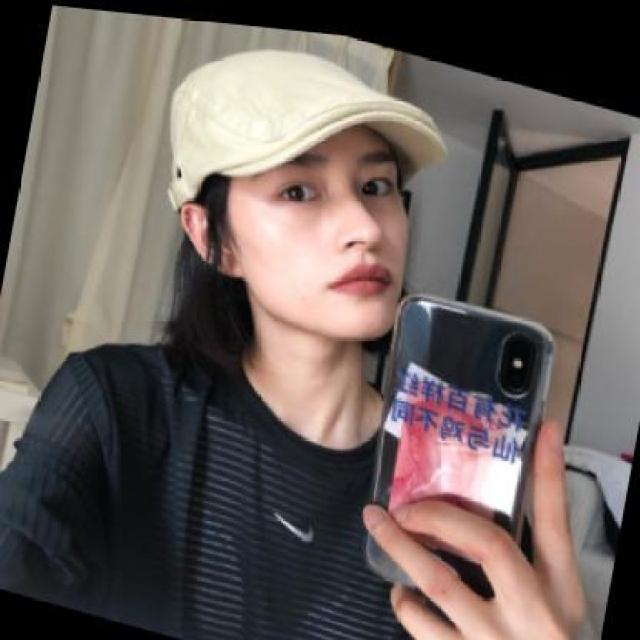hat: (163, 43, 446, 204)
